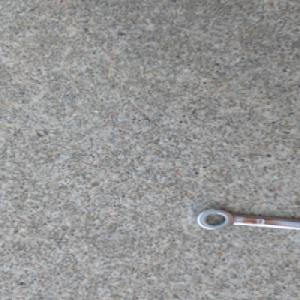Wrench: (194, 206, 300, 233)
